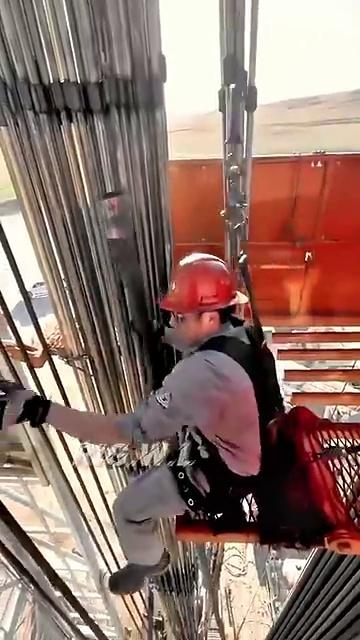gloves: (0, 368, 83, 423)
helmet: (160, 228, 250, 328)
shoes: (72, 535, 183, 623)
worker: (0, 235, 318, 633)
